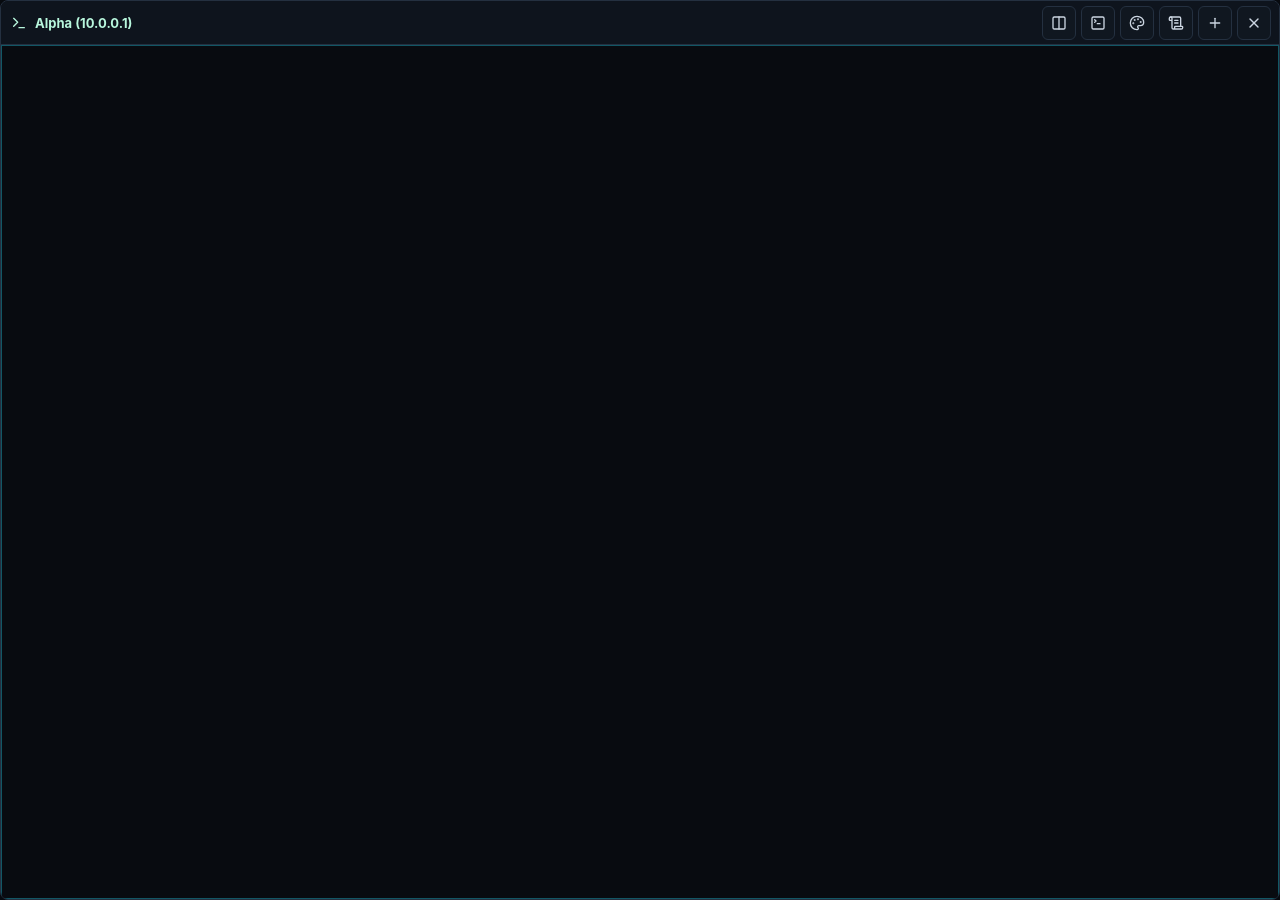
Test case: TerminalPane multi-session split › keeps the original same-session split behavior
Click the button named "Split terminal": {"x": 1059, "y": 22} [1042,6,1076,40]
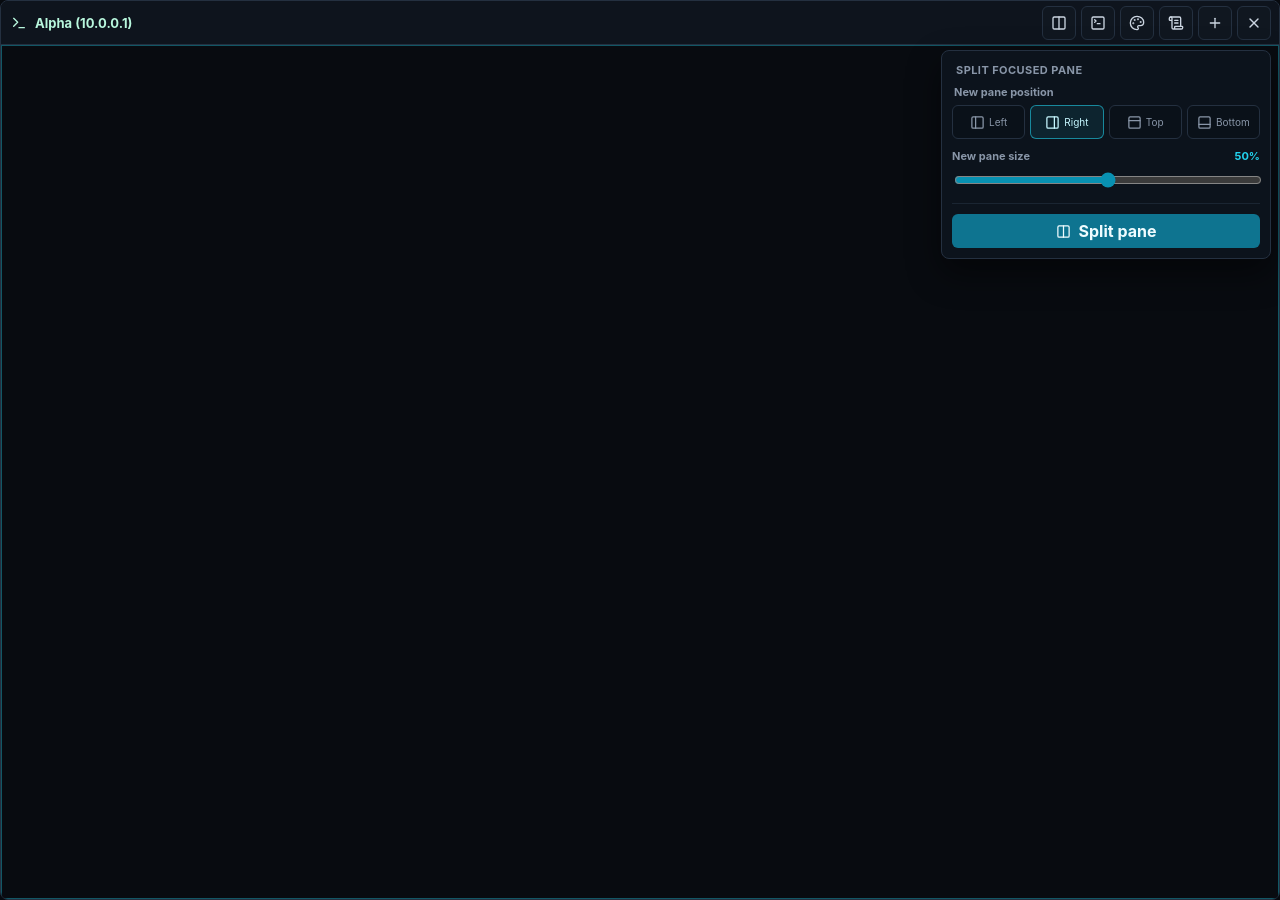
Click the button "Split pane": {"x": 1106, "y": 231} [952,214,1260,248]
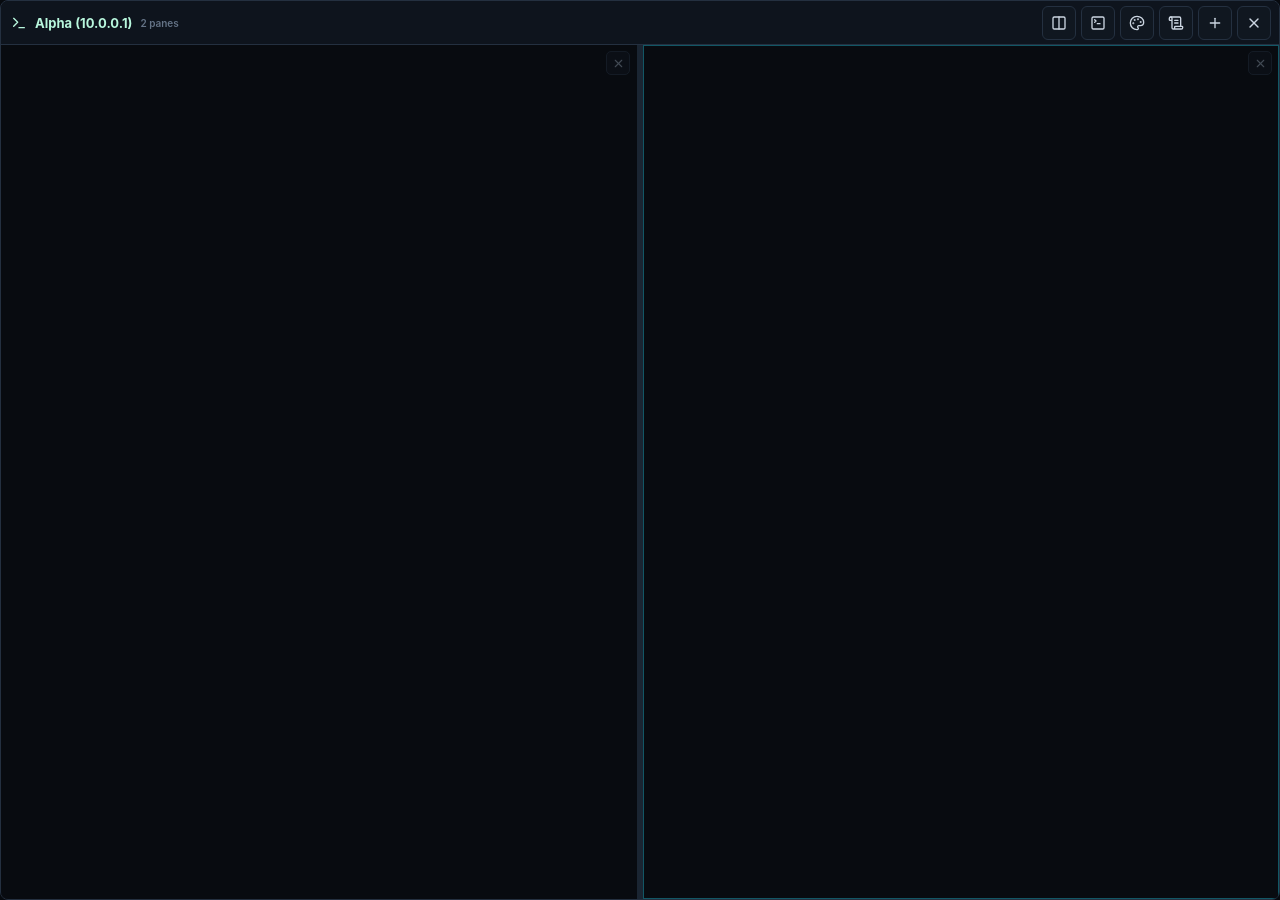
expect the number of elements named "Alpha terminal pane" is 2: met, box [1,45,637,899]; [643,45,1279,899]
